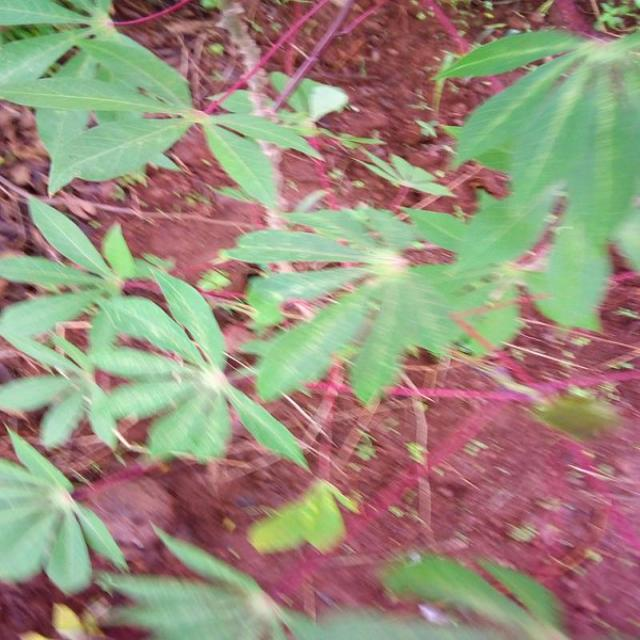cassava leaf: (446, 26, 638, 332)
